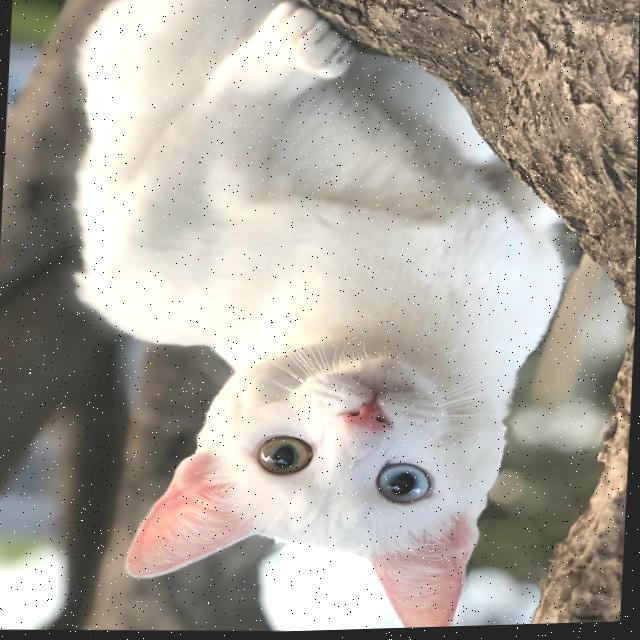Khao Manee: (37, 0, 584, 639)
